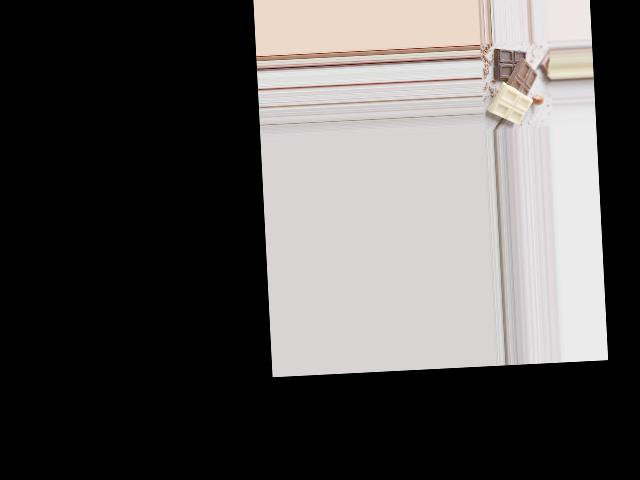chocolate: (488, 43, 540, 125)
